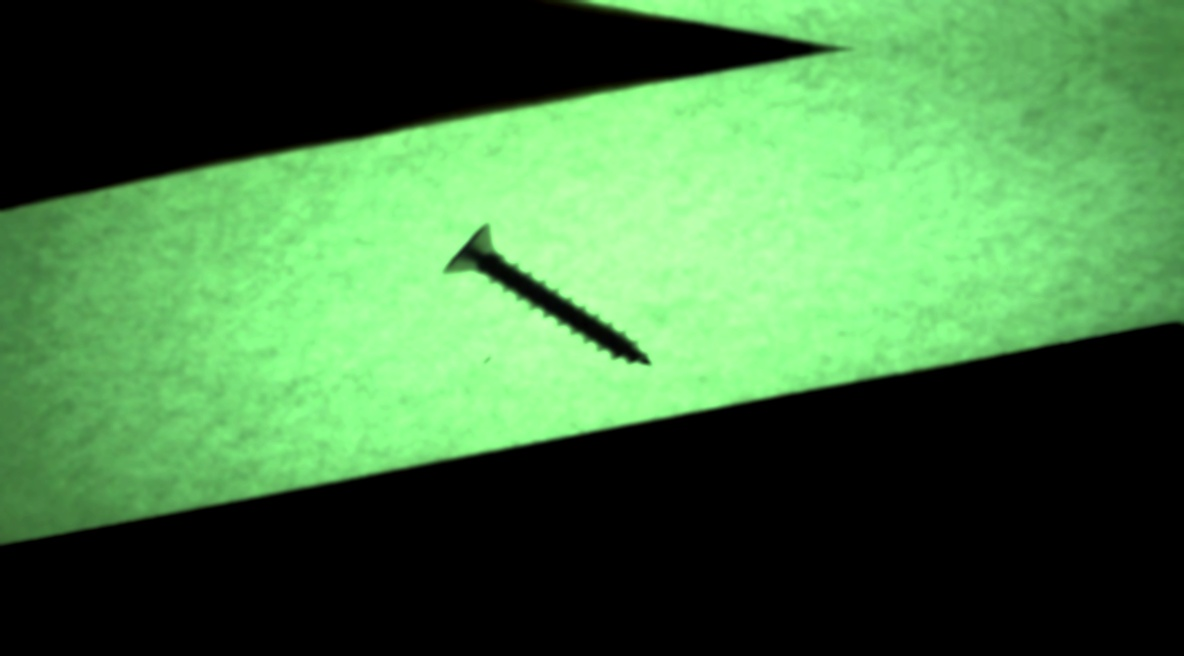S001: (429, 212, 674, 382)
